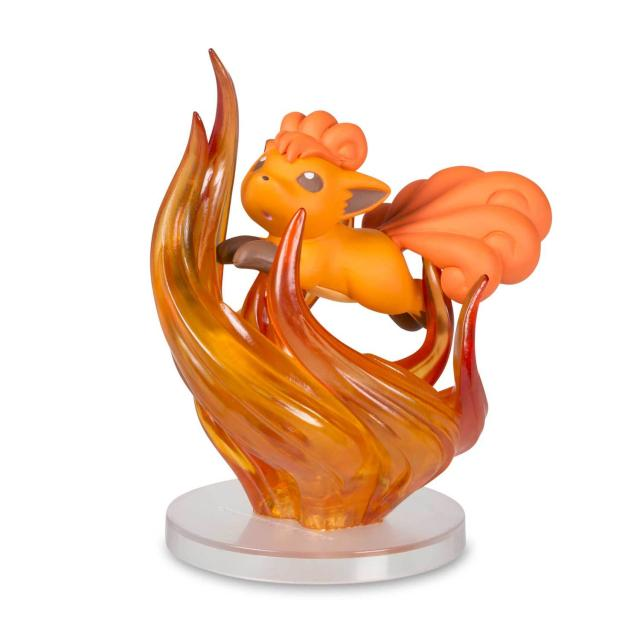Vulpix: (220, 91, 555, 358)
